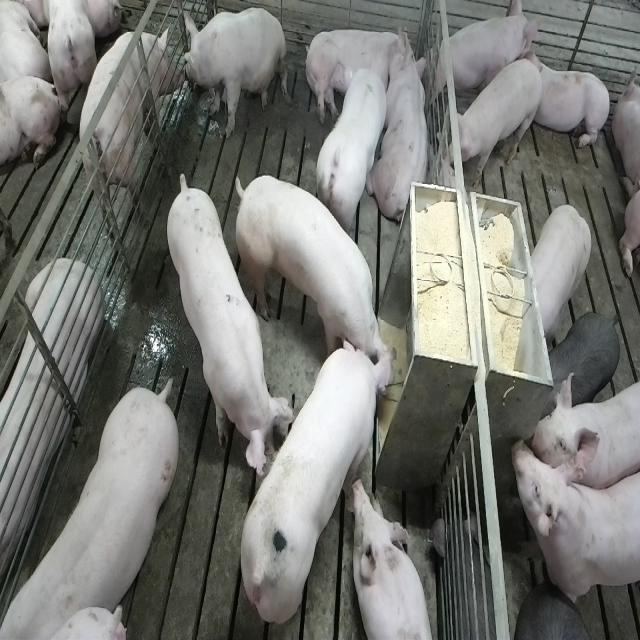Feeding: (239, 339, 395, 627), (232, 169, 392, 382)
Sitting: (184, 5, 288, 141), (432, 3, 538, 94)
Standing: (167, 166, 294, 470), (508, 431, 640, 608), (76, 26, 178, 217), (534, 366, 640, 494), (445, 54, 545, 185), (314, 62, 388, 232), (529, 200, 594, 342), (542, 302, 624, 404)
Sternal_lying: (0, 376, 180, 637), (0, 249, 107, 584), (350, 478, 430, 640), (519, 45, 609, 154)
